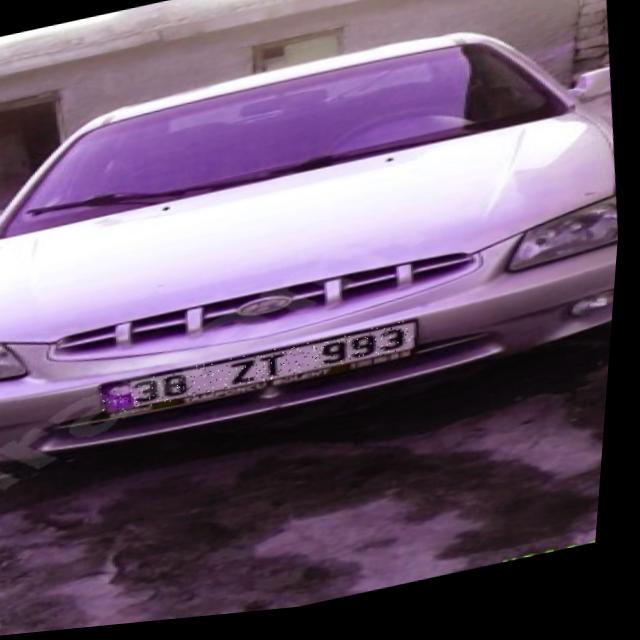license_plate: (105, 327, 424, 419)
